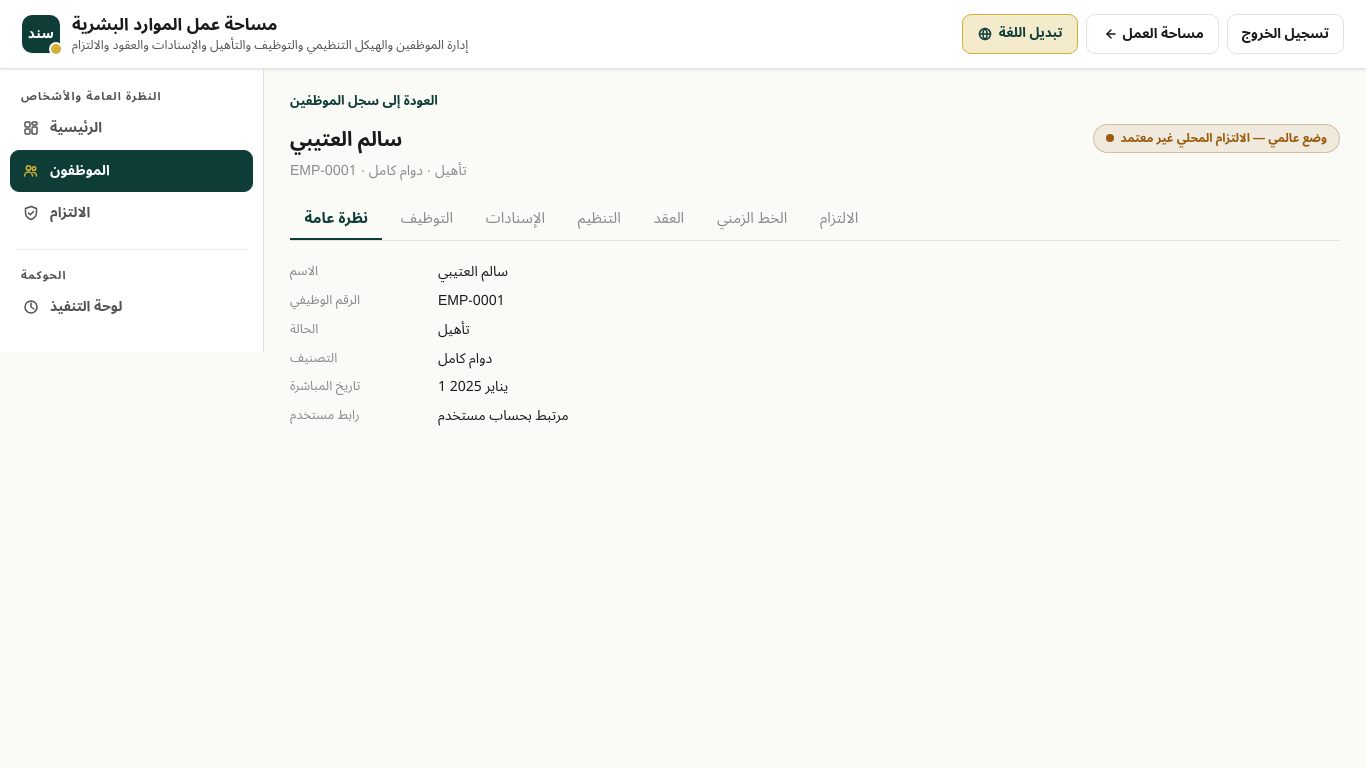
Test: Employee 360 — lifecycle actions › surfaces the stale-version conflict safely (409) without overwriting
This screenshot has width=1366, height=768.
Expected: the heading "سالم العتيبي" is shown, [290,119,402,161]
Click the tab "التوظيف": click(427, 219) [386,198,468,240]
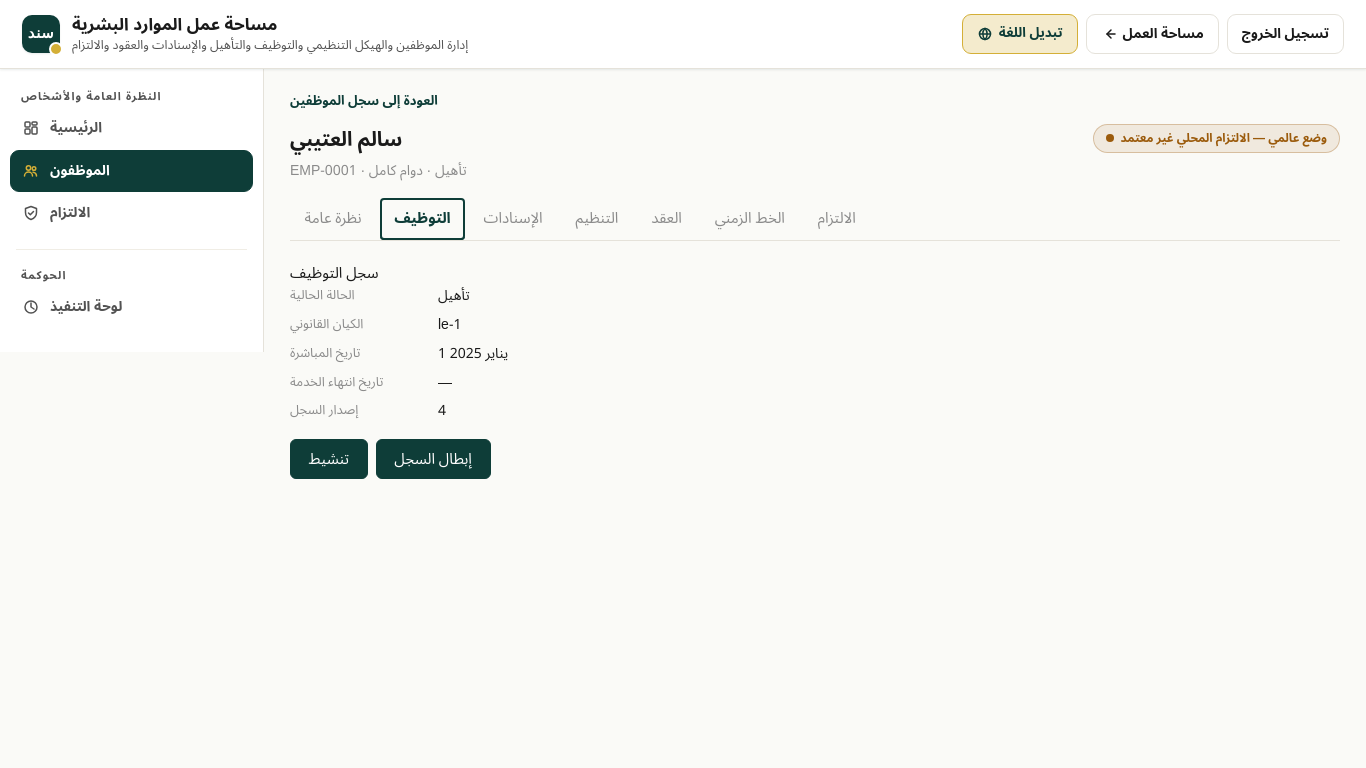
Click the button "تنشيط": click(329, 459) [290,439,368,479]
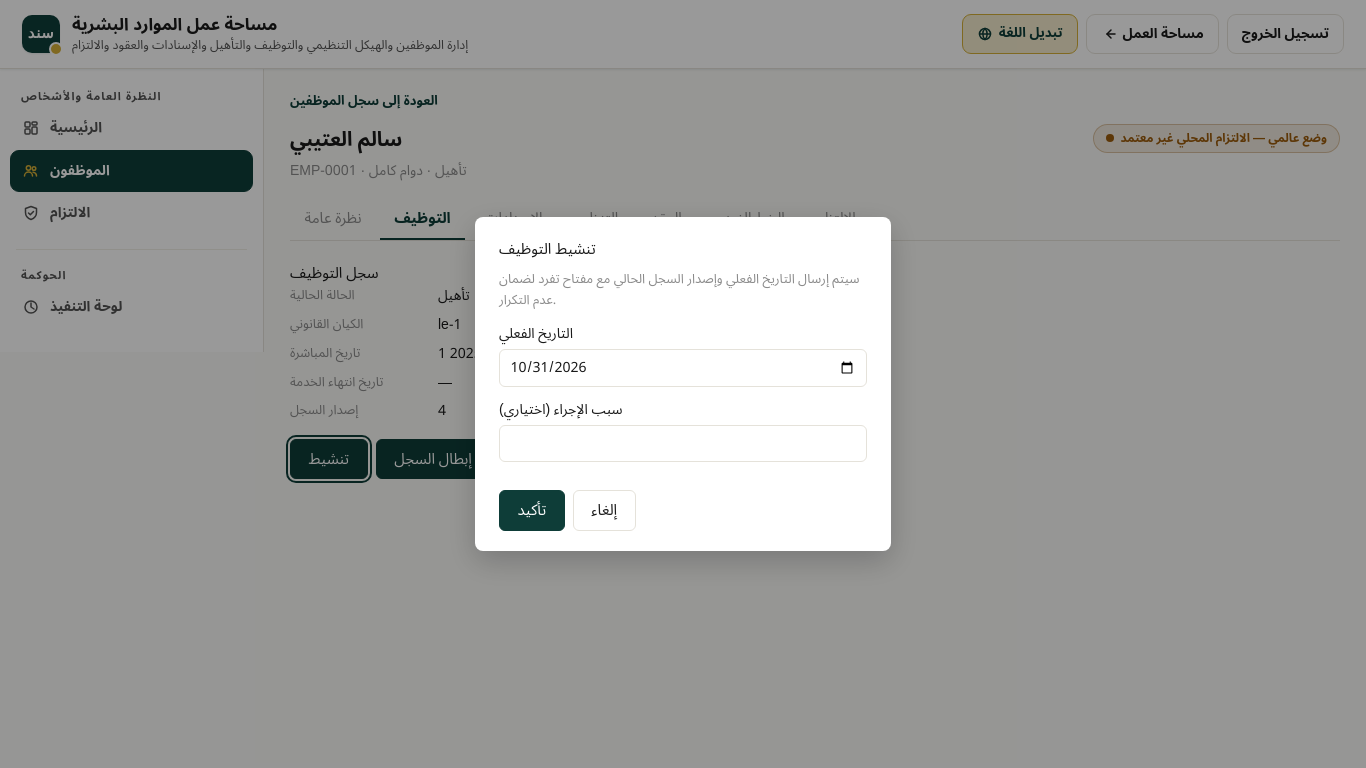
Click the button "تأكيد": click(532, 510) [499,490,565,531]
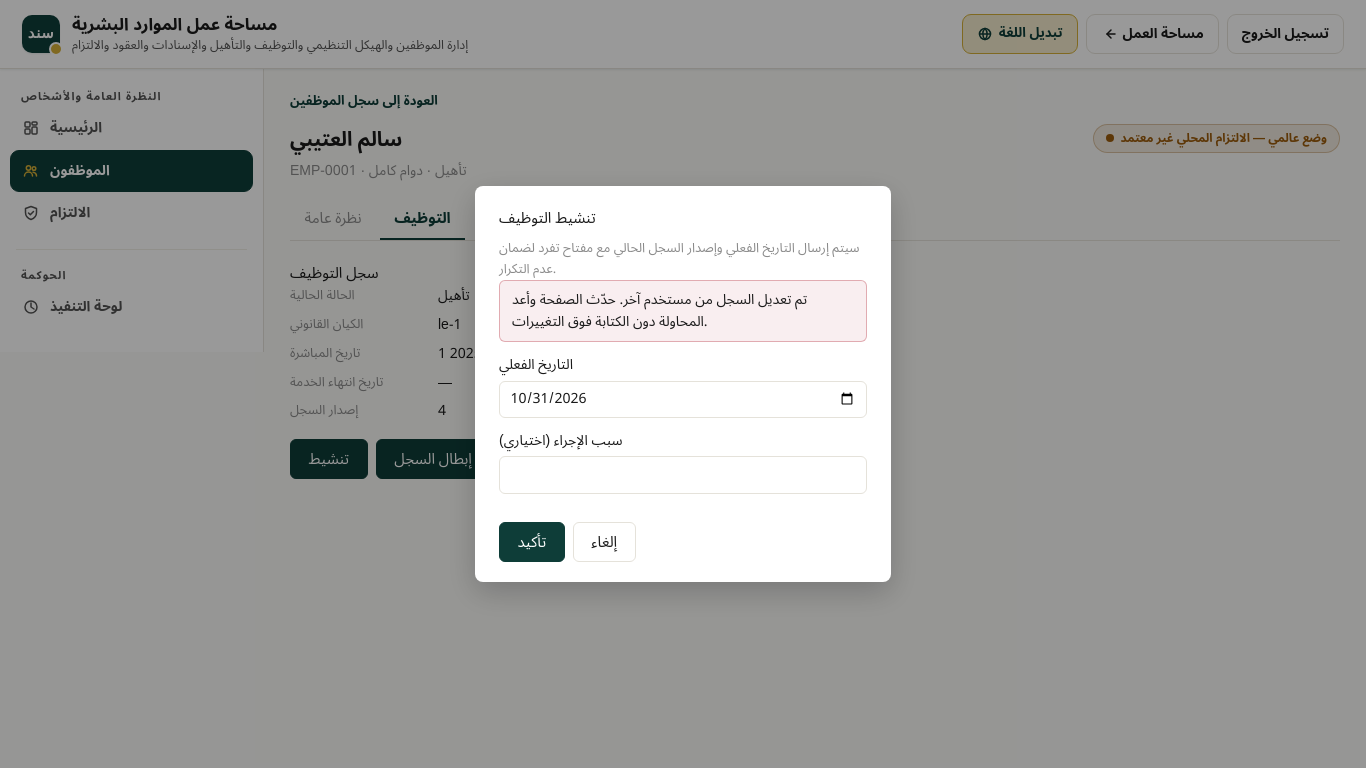
Expected: the message shows "مستخدم آخر", [512,285,807,336]
